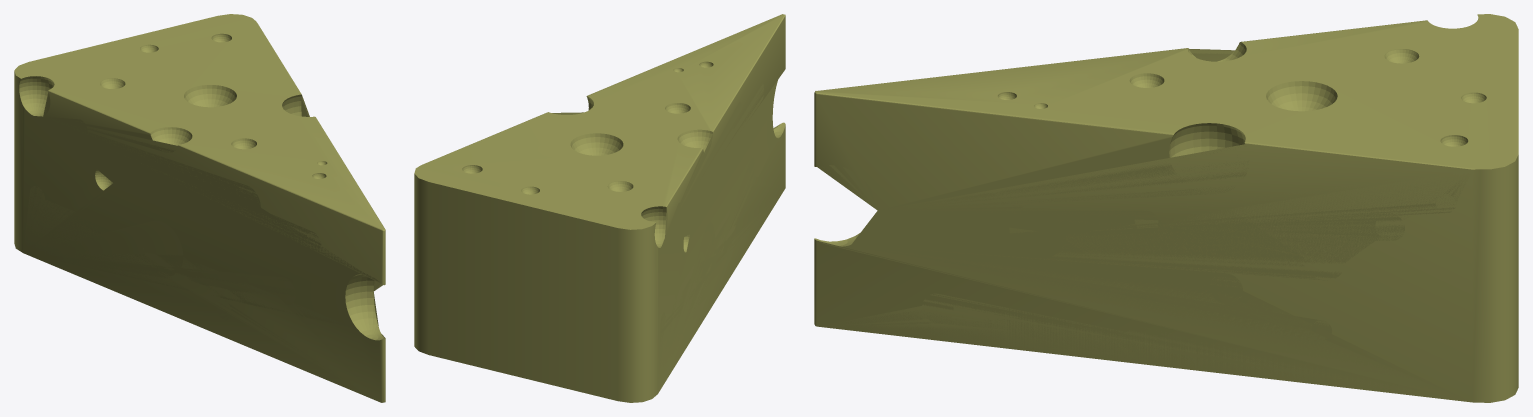
The model's file is Queso asset.fbx.
3 renders of one model, left to right at view 1: azimuth 30°, elevation 25°; view 2: azimuth 150°, elevation 25°; view 3: azimuth 270°, elevation 25°, orthographic. The views are drawn at different scales.
Visible parts, largest first — view 1: Cube; view 2: Cube; view 3: Cube.
Boxes of the visible parts, box(x1,y1,x2,y2) form: Cube: box(14, 14, 385, 402); Cube: box(414, 14, 785, 402); Cube: box(814, 14, 1518, 402).
Bounding box in the file's own units: 188 × 132 × 360.
